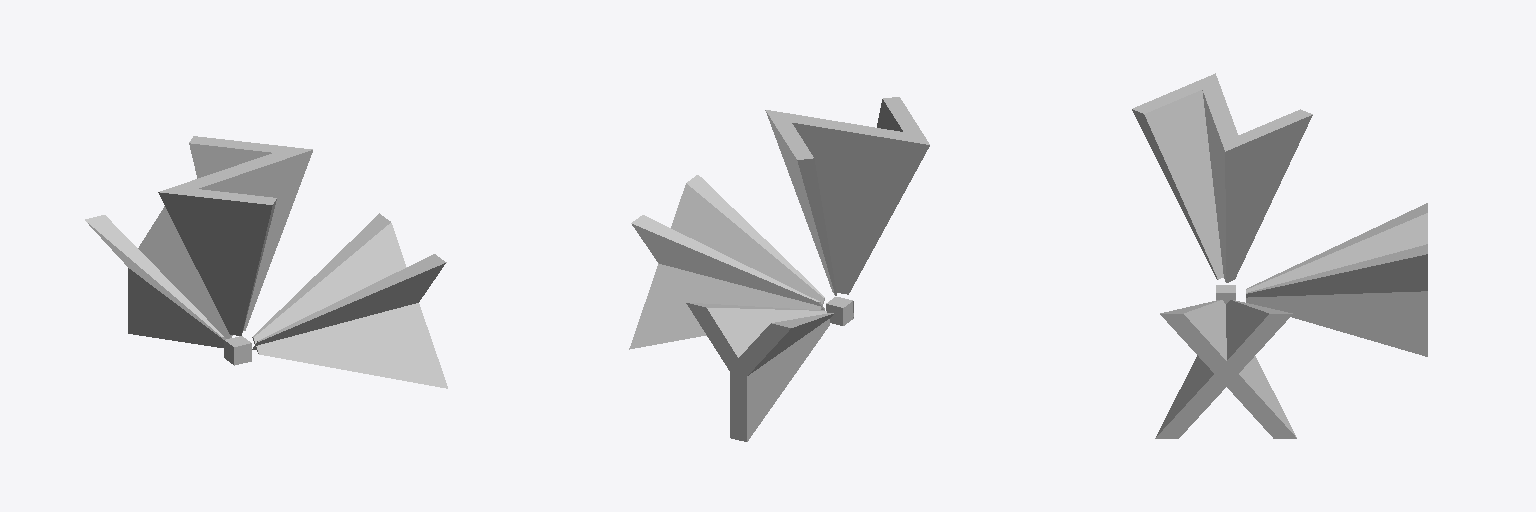
The model's file is axis test.obj.
The picture shows the model from 3 angles: view 1: azimuth 30°, elevation 25°; view 2: azimuth 150°, elevation 25°; view 3: azimuth 270°, elevation 25°; orthographic projection.
Parts seen in each view (by area): view 1: Text.004; view 2: Text.004; view 3: Text.004.
Part boxes in pixels (x1,y1,x2,y2): Text.004: (85, 136, 447, 388); Text.004: (629, 97, 929, 441); Text.004: (1132, 73, 1427, 438).
Size of the model in its own units: 1.49 by 1.3 by 1.47.